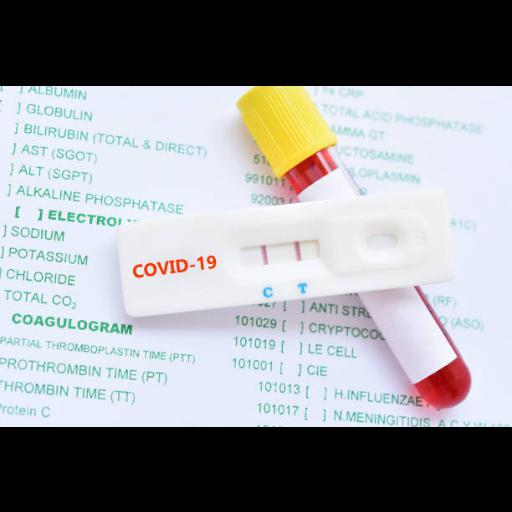Pos: (115, 188, 457, 319)
